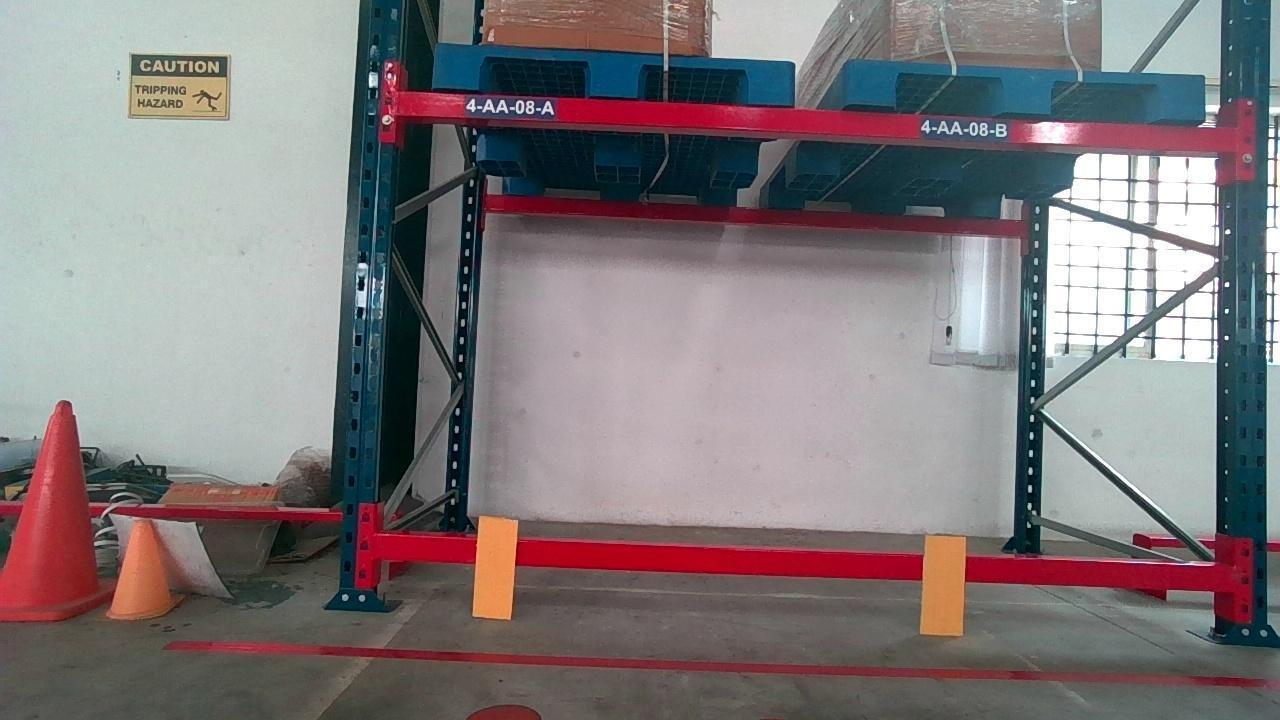h_rack: (372, 536, 1233, 594), (407, 89, 1230, 148)
orange_strip: (920, 534, 965, 634), (472, 515, 516, 615)
small_pallet: (846, 63, 1206, 116), (439, 46, 790, 97)
